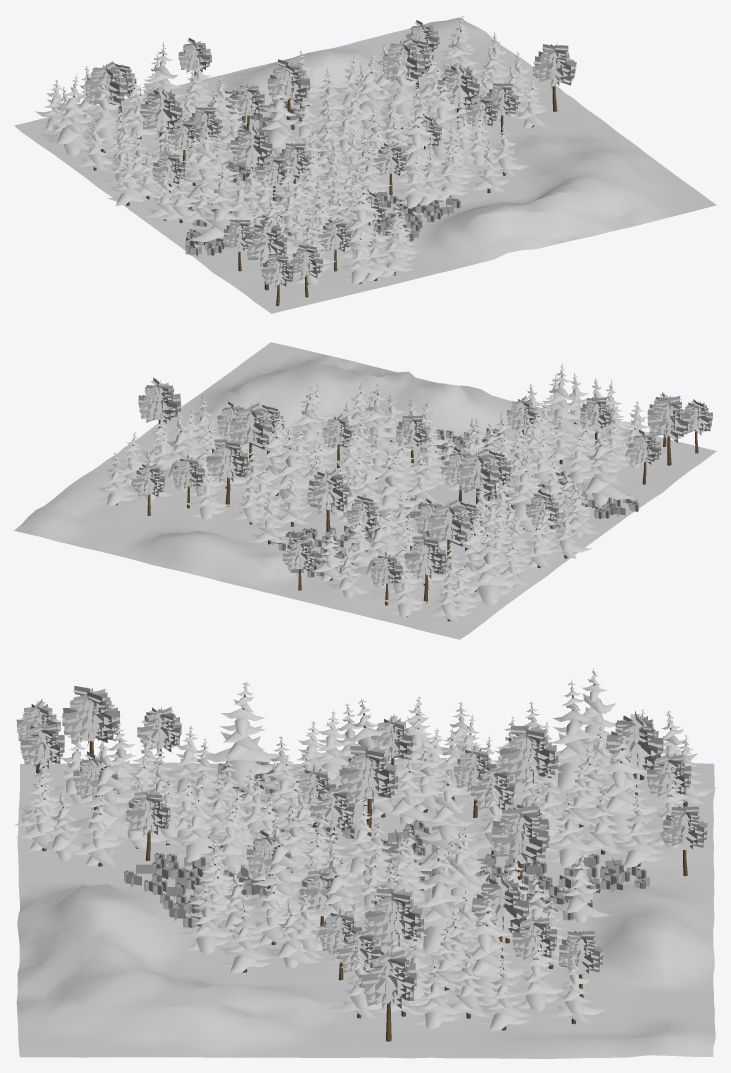
Rendered from Forest.obj.
3 views of the same model, one above another, from view 1: azimuth 30°, elevation 25°; view 2: azimuth 150°, elevation 25°; view 3: azimuth 270°, elevation 25° (orthographic). The views are drawn at different scales.
Visible parts, largest first — view 1: Plane_Plane.003, Green_elka.064_Plane.079, Green_sosna.012_Plane.039, Green_sosna.002_Plane.025, Green_elka.043_Plane.058, Green_elka.080_Plane.101, Green_elka.111_Plane.139, Green_elka.098_Plane.125, Green_sosna.018_Plane.093, Green_sosna.003_Plane.026, Green_elka.033_Plane.048, Green_sosna.024_Plane.121 (+57 smaller); view 2: Plane_Plane.003, Green_elka.064_Plane.079, Green_elka.111_Plane.139, Green_sosna.024_Plane.121, Green_sosna.003_Plane.026, Green_sosna.002_Plane.025, Green_sosna.015_Plane.090, Green_sosna.010_Plane.033, Green_sosna.012_Plane.039, Green_sosna.007_Plane.030, Green_sosna.018_Plane.093, Green_elka.001_Plane.001 (+51 smaller); view 3: Plane_Plane.003, Green_elka.111_Plane.139, Green_sosna.003_Plane.026, Green_elka.072_Plane.087, Green_elka.023_Plane.036, Green_sosna.012_Plane.039, Green_sosna.024_Plane.121, Green_sosna.002_Plane.025, Green_sosna.007_Plane.030, Green_sosna.018_Plane.093, Green_elka.001_Plane.001, Green_elka.076_Plane.097 (+84 smaller).
Boxes of the visible parts, x1,y1,x2,y2 form: Plane_Plane.003: (14, 17, 716, 313); Green_elka.064_Plane.079: (38, 76, 94, 157); Green_sosna.012_Plane.039: (533, 44, 576, 89); Green_sosna.002_Plane.025: (229, 122, 273, 167); Green_elka.043_Plane.058: (392, 107, 448, 185); Green_elka.080_Plane.101: (337, 183, 392, 261); Green_elka.111_Plane.139: (188, 166, 244, 241); Green_elka.098_Plane.125: (184, 128, 232, 202); Green_sosna.018_Plane.093: (139, 86, 183, 134); Green_sosna.003_Plane.026: (267, 59, 310, 103); Green_elka.033_Plane.048: (335, 52, 391, 131); Green_sosna.024_Plane.121: (245, 220, 287, 266); Plane_Plane.003: (14, 342, 716, 639); Green_elka.064_Plane.079: (455, 525, 524, 606); Green_elka.111_Plane.139: (570, 426, 635, 506); Green_sosna.024_Plane.121: (647, 396, 690, 442); Green_sosna.003_Plane.026: (306, 468, 349, 514); Green_sosna.002_Plane.025: (456, 448, 499, 495); Green_sosna.015_Plane.090: (404, 535, 447, 579); Green_sosna.010_Plane.033: (206, 438, 249, 481); Green_sosna.012_Plane.039: (138, 377, 181, 423); Green_sosna.007_Plane.030: (229, 403, 272, 449); Green_sosna.018_Plane.093: (427, 500, 470, 546); Green_elka.001_Plane.001: (371, 448, 424, 526); Plane_Plane.003: (16, 762, 715, 1058); Green_elka.111_Plane.139: (195, 682, 289, 788); Green_sosna.003_Plane.026: (491, 805, 549, 868); Green_elka.072_Plane.087: (572, 736, 665, 842); Green_elka.023_Plane.036: (438, 899, 530, 1005); Green_sosna.012_Plane.039: (358, 949, 417, 1008); Green_sosna.024_Plane.121: (62, 686, 120, 746); Green_sosna.002_Plane.025: (339, 745, 398, 803); Green_sosna.007_Plane.030: (365, 888, 424, 946); Green_sosna.018_Plane.093: (499, 725, 558, 783); Green_elka.001_Plane.001: (414, 771, 488, 870); Green_elka.076_Plane.097: (551, 682, 609, 790).
Size of the model in its own units: 16.73 by 2.75 by 16.22.
